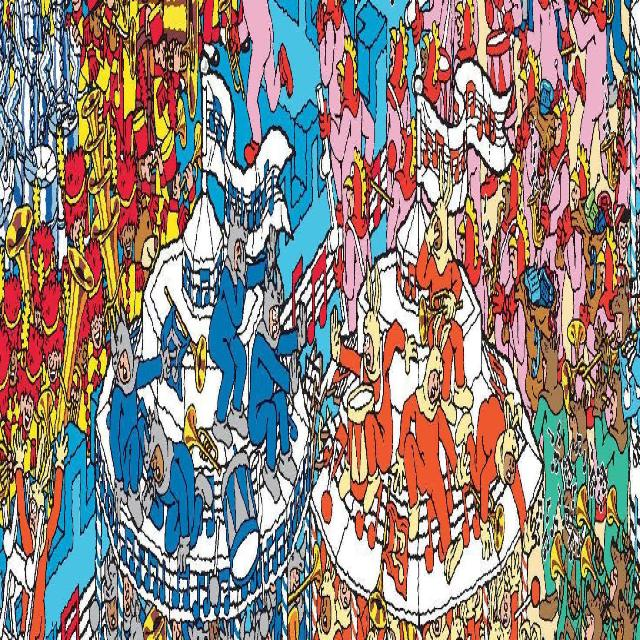waldo: (613, 202, 630, 260)
